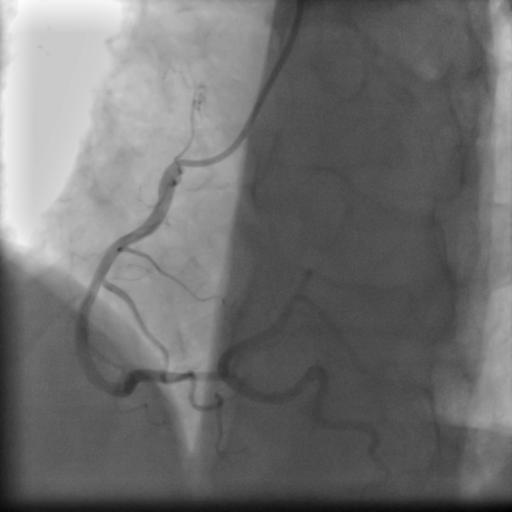Stenosis: (173, 363, 222, 387)
